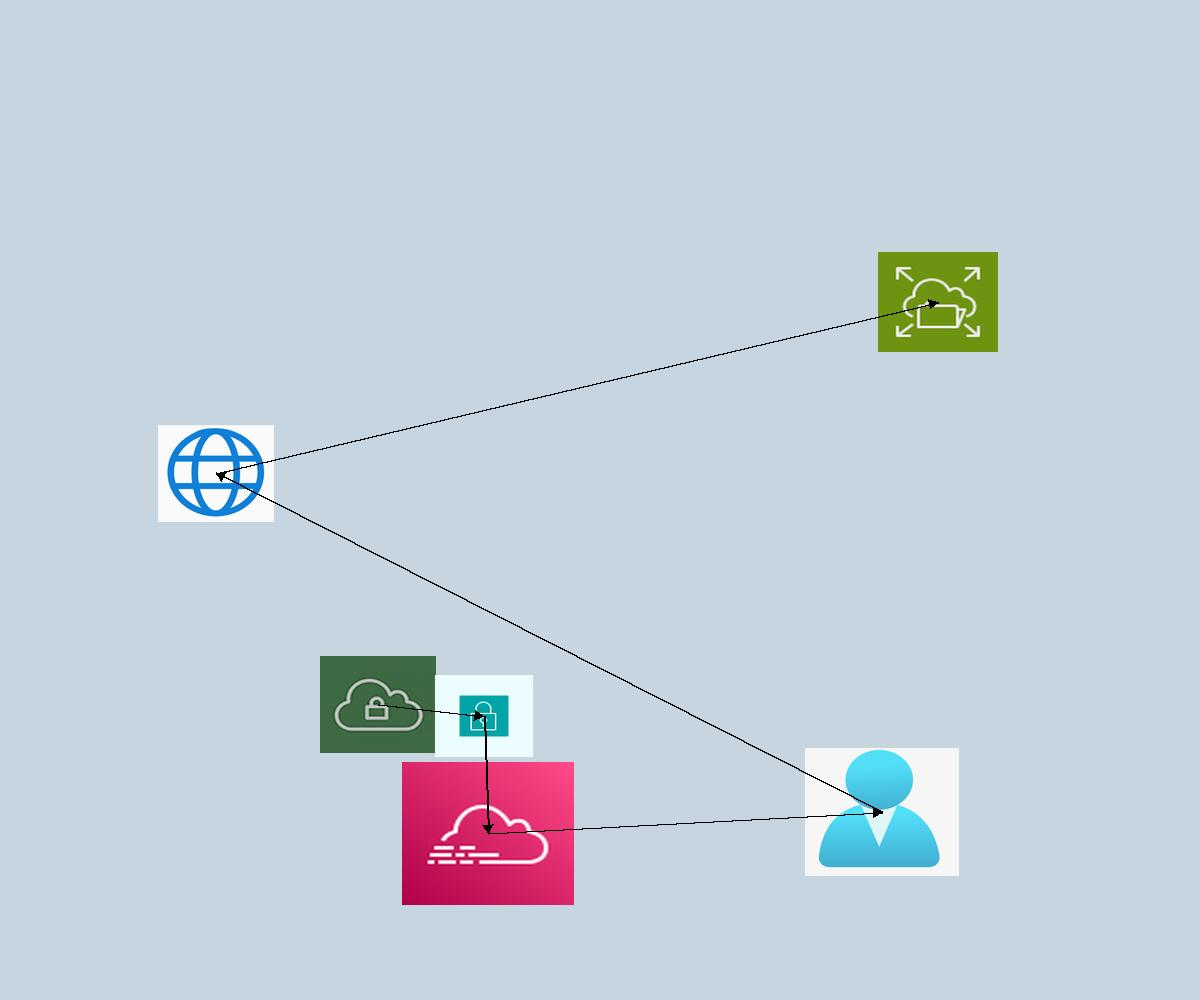AWS-CloudTrail: (402, 762, 574, 905)
AWS-EFS: (878, 252, 998, 352)
AWS-Private-subnet: (435, 675, 533, 757)
AWS-Private_vpc: (320, 656, 436, 753)
Azure_http: (158, 425, 274, 522)
Azure_users: (805, 748, 959, 876)
